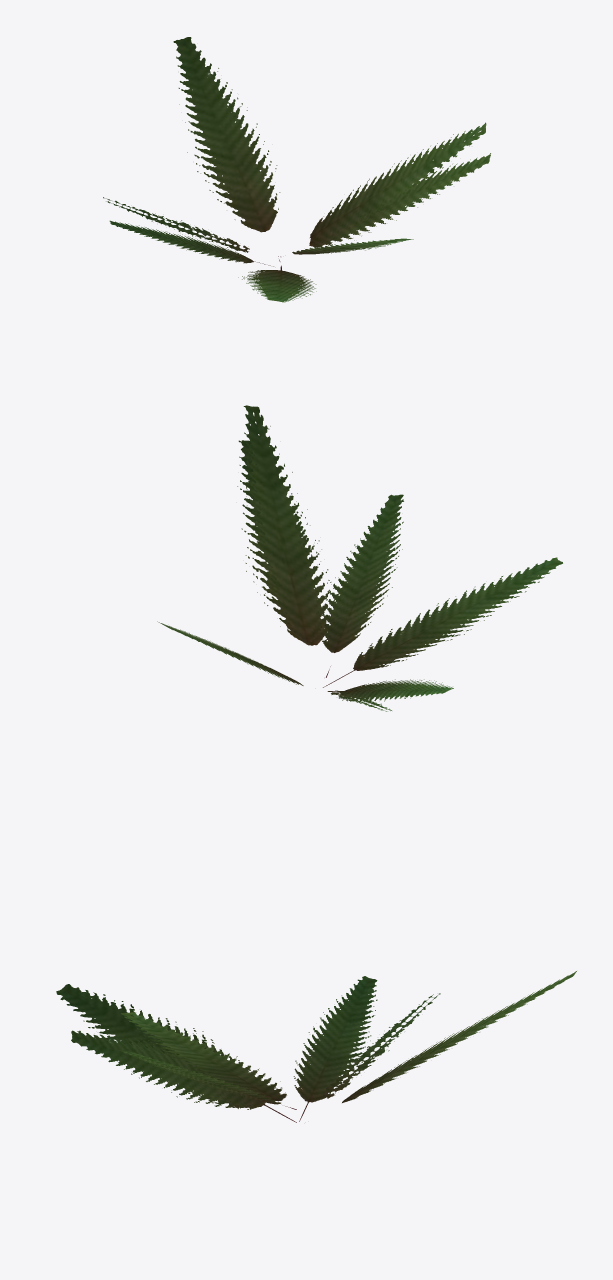
File: shida.lite.glb
3 renders of one model, top to bottom at view 1: azimuth 30°, elevation 25°; view 2: azimuth 150°, elevation 25°; view 3: azimuth 270°, elevation 25°, orthographic. The views are drawn at different scales.
Parts seen in each view (by area): view 1: v0_lod1, v1_lod1, v2_lod1; view 2: v0_lod1, v1_lod1, v2_lod1; view 3: v0_lod1, v1_lod1, v2_lod1.
Boxes of the visible parts, x1,y1,x2,y2 form: v0_lod1: (109, 37, 486, 266); v1_lod1: (103, 153, 490, 302); v2_lod1: (278, 238, 413, 256); v0_lod1: (157, 405, 453, 702); v1_lod1: (237, 440, 562, 711); v2_lod1: (321, 494, 403, 677); v0_lod1: (121, 971, 576, 1121); v1_lod1: (56, 984, 440, 1122); v2_lod1: (71, 1030, 296, 1109).
Size of the model in its own units: 2.51 by 1.04 by 2.16.
1 material, 1 textured.
